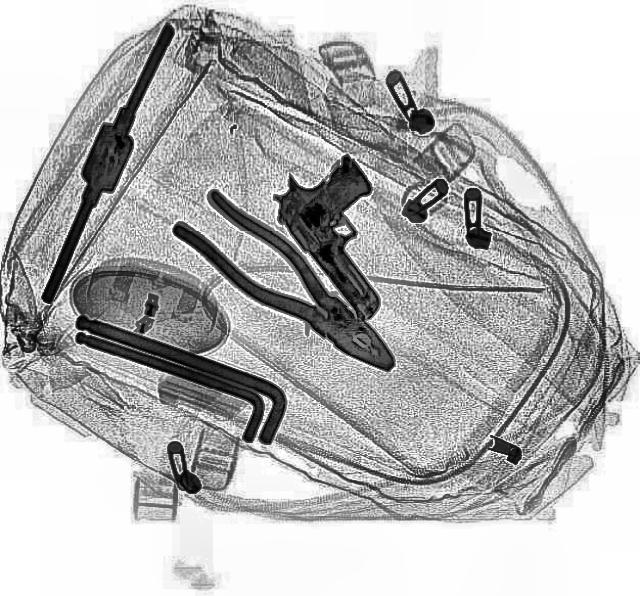Gun: (256, 144, 444, 322)
Pliers: (166, 184, 417, 388)
